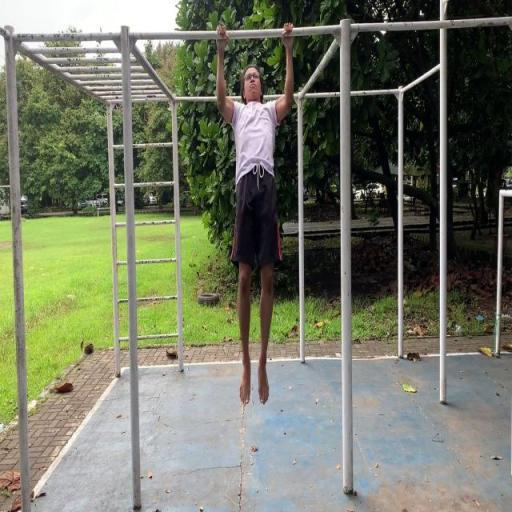Normal_BrenchPress: (214, 21, 296, 408)
